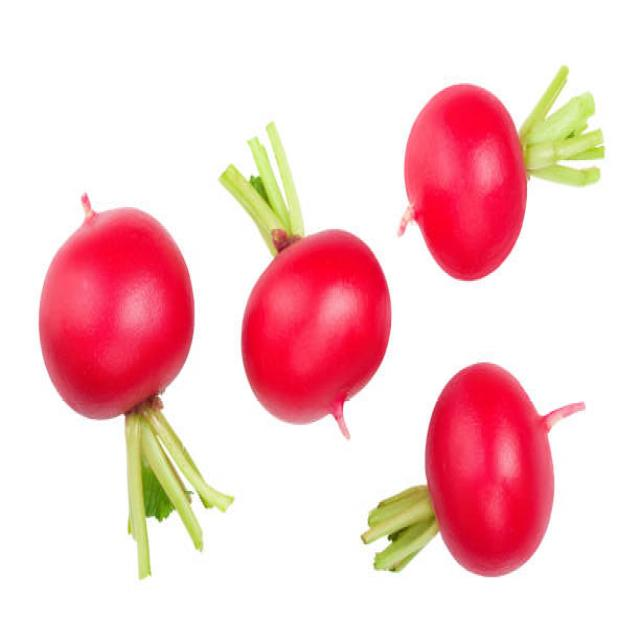spinach: (38, 203, 225, 546), (399, 54, 597, 279), (237, 184, 392, 434), (398, 354, 559, 579)
